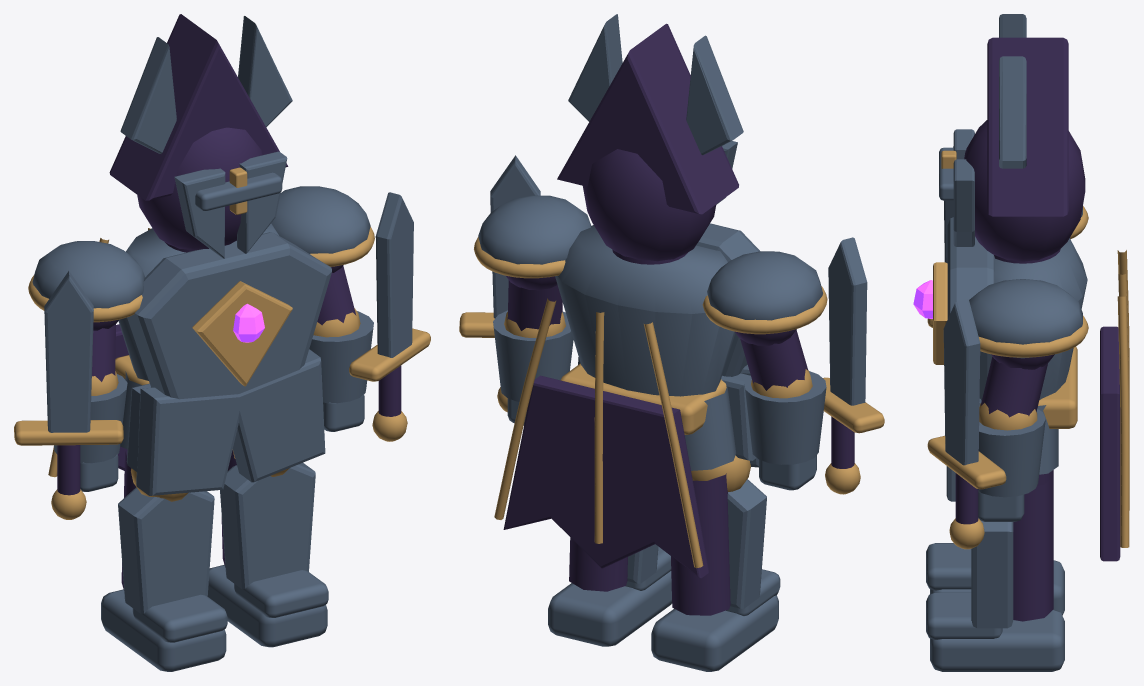
Rendered from moonsteel-convergence-veil-duelist-5c93eca5__18172.glb.
3 renders of one model, left to right at view 1: azimuth 30°, elevation 25°; view 2: azimuth 150°, elevation 25°; view 3: azimuth 270°, elevation 25°, orthographic.
Parts seen in each view (by area): view 1: veil-duelist; view 2: veil-duelist; view 3: veil-duelist.
Part boxes in pixels (x1,y1,x2,y2): veil-duelist: (14,14,430,671); veil-duelist: (459,14,884,671); veil-duelist: (913,14,1129,671).
Size of the model in its own units: 1.88 by 2.6 by 0.8488.
